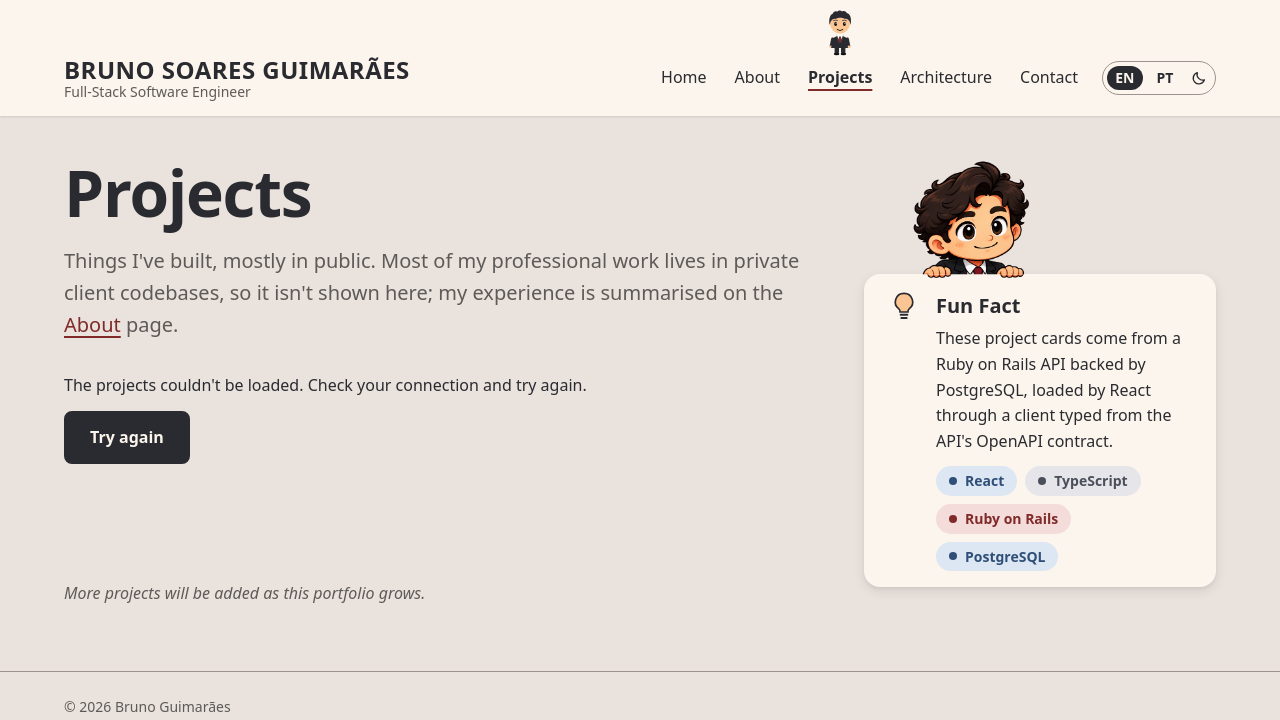
Test case: ProjectsPage, full-stack build › recovers with Try again, making a fresh request
What coordinates should you click on to do the following:
click the button "Try again"
I would click on:
 (127, 438)
Its box is x1=64 y1=411 x2=190 y2=464.
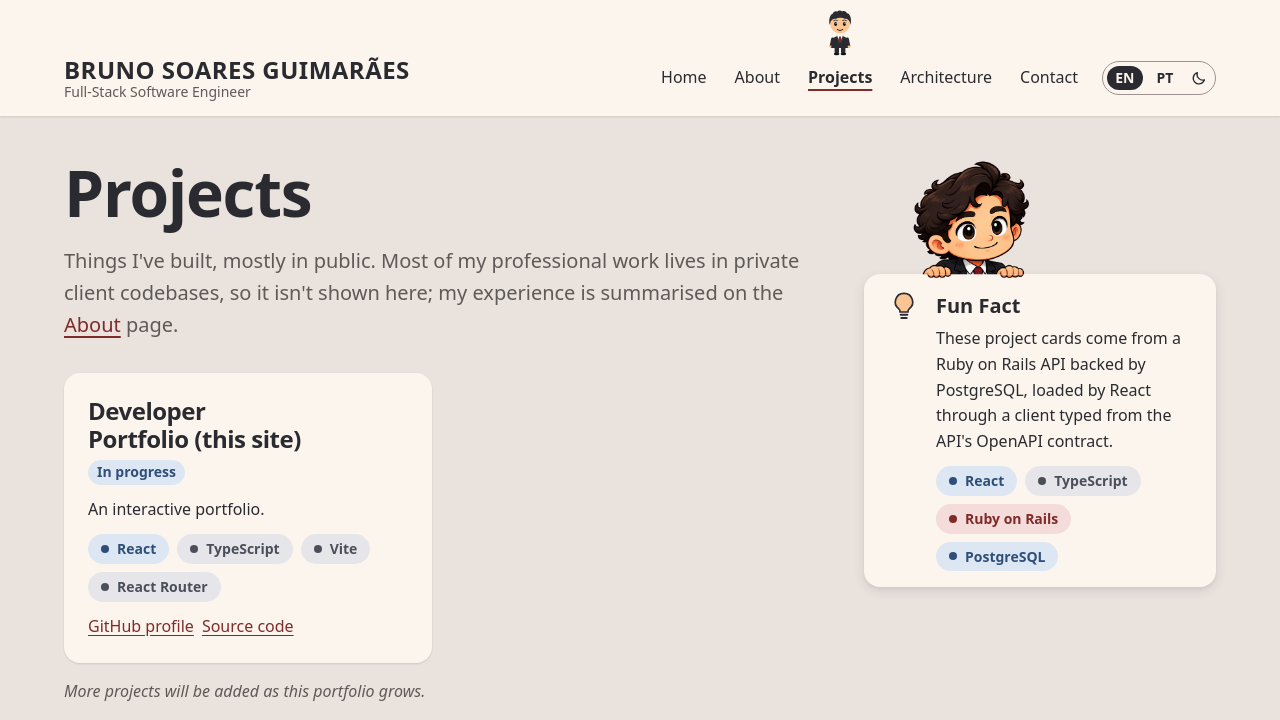
Expected: the element that starts with "Developer Portfolio (this site)" is shown, x1=64 y1=373 x2=432 y2=663
